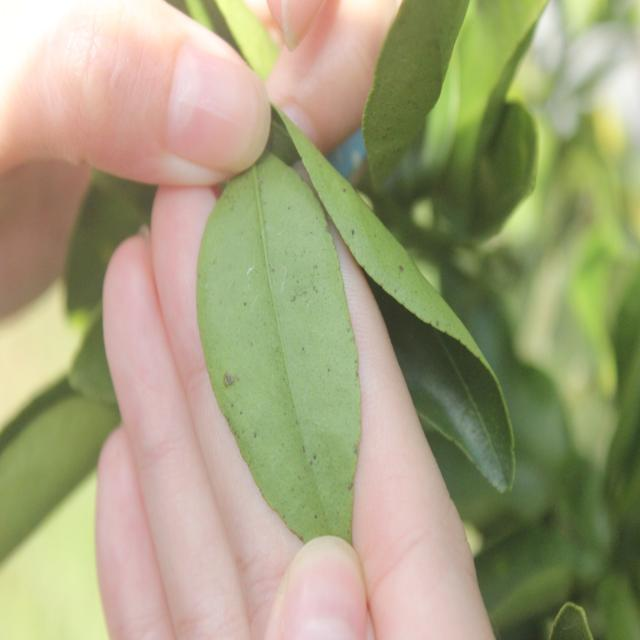melanose: (297, 117, 494, 435), (196, 171, 358, 517)
